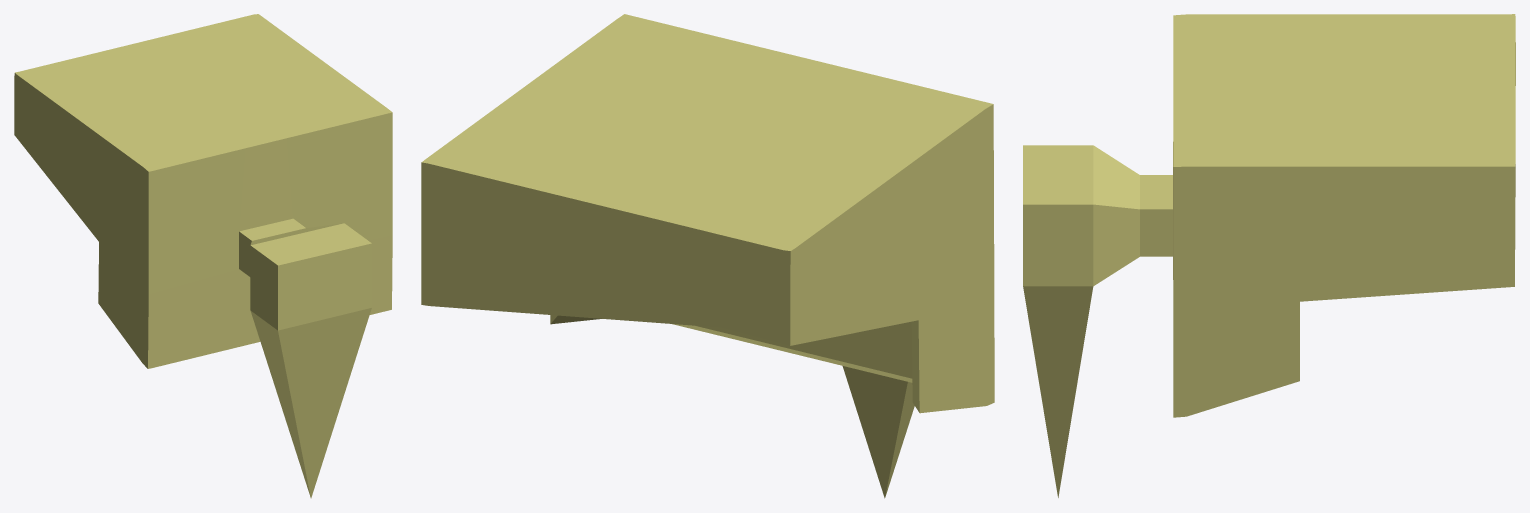
File: ponytail_hair.fbx
The picture shows the model from 3 angles, left to right: view 1: azimuth 30°, elevation 25°; view 2: azimuth 150°, elevation 25°; view 3: azimuth 270°, elevation 25°; orthographic projection. The views are drawn at different scales.
Visible parts, largest first — view 1: Cube; view 2: Cube; view 3: Cube.
Part boxes in pixels (x1=…): Cube: x1=14, y1=14, x2=392, y2=498; Cube: x1=421, y1=14, x2=994, y2=498; Cube: x1=1023, y1=14, x2=1515, y2=497.
Bounding box in the file's own units: 0.5325 × 0.6728 × 0.729.
